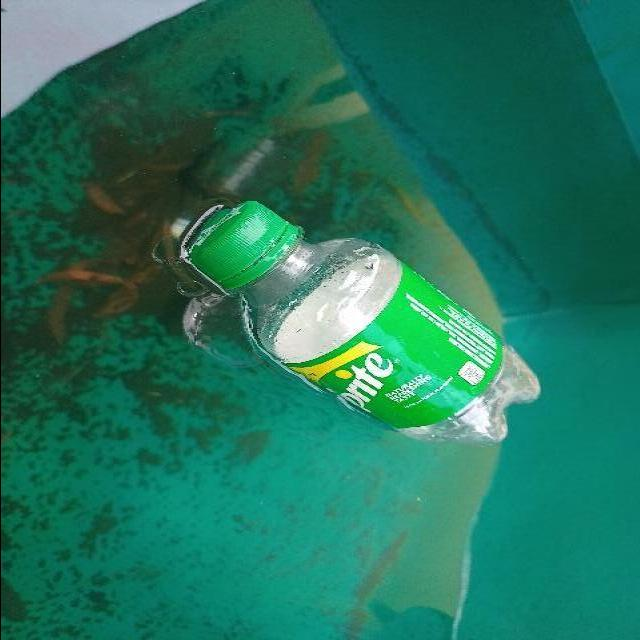Bottle: (168, 192, 546, 454)
